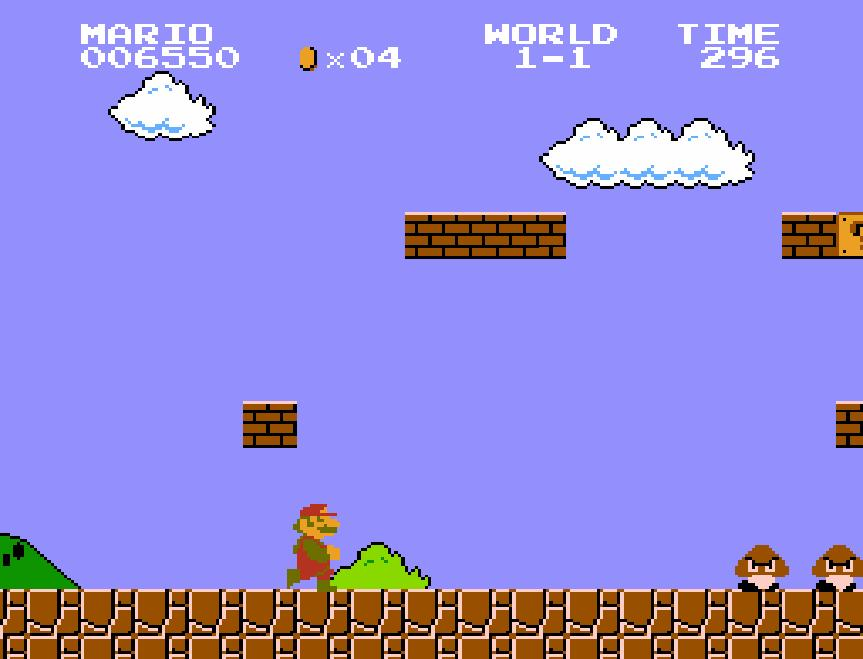big_mario: (284, 496, 342, 594)
